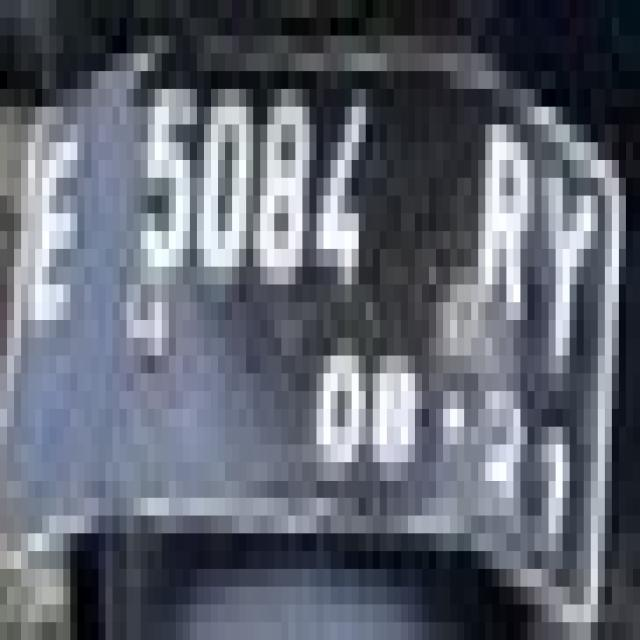plate: (0, 18, 619, 622)
